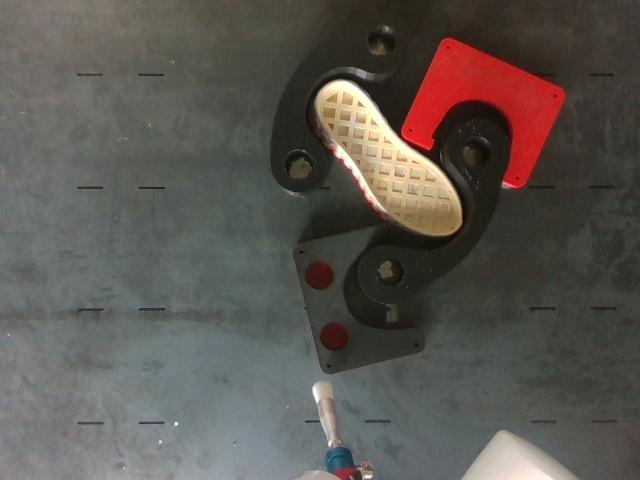shoes: (316, 81, 460, 235)
